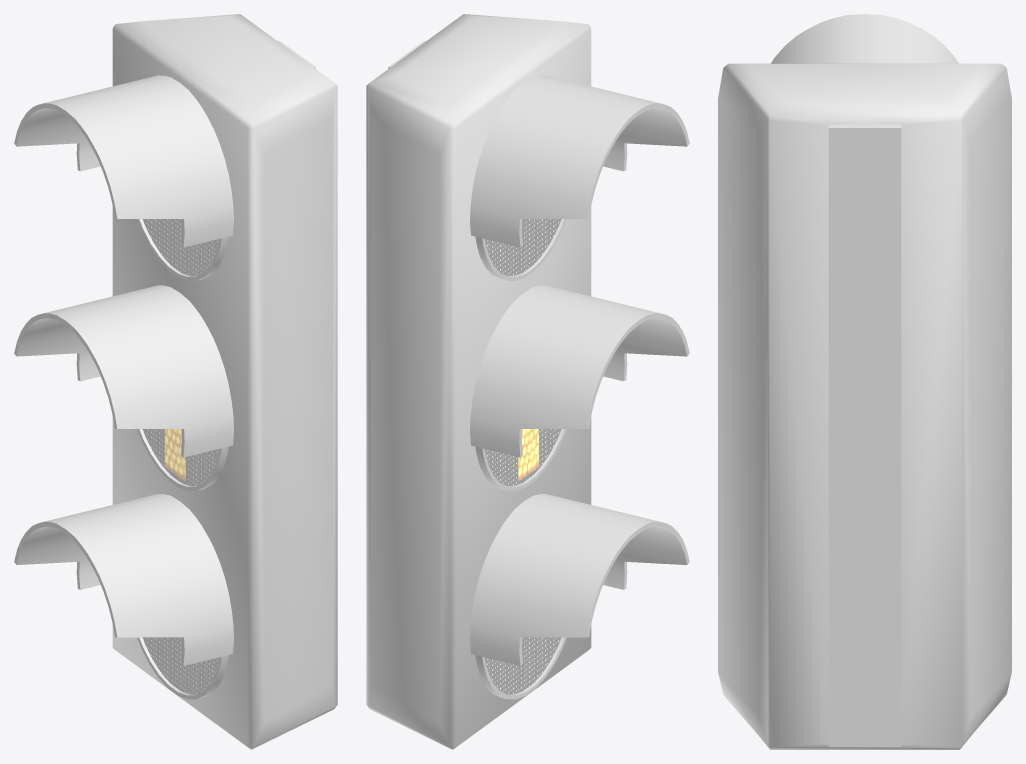
File: 竖排直行灯_YellowLight.glb
The picture shows the model from 3 angles, left to right: view 1: azimuth 30°, elevation 25°; view 2: azimuth 150°, elevation 25°; view 3: azimuth 270°, elevation 25°; orthographic projection.
Visible parts, largest first — view 1: 竖排直行灯_YellowLight; view 2: 竖排直行灯_YellowLight; view 3: 竖排直行灯_YellowLight.
Boxes of the visible parts, x1,y1,x2,y2 form: 竖排直行灯_YellowLight: [14, 14, 337, 749]; 竖排直行灯_YellowLight: [366, 14, 689, 749]; 竖排直行灯_YellowLight: [718, 14, 1011, 749].
Bounding box in the file's own units: 0.6001 × 1.58 × 0.65.
3 materials, 2 textured.
